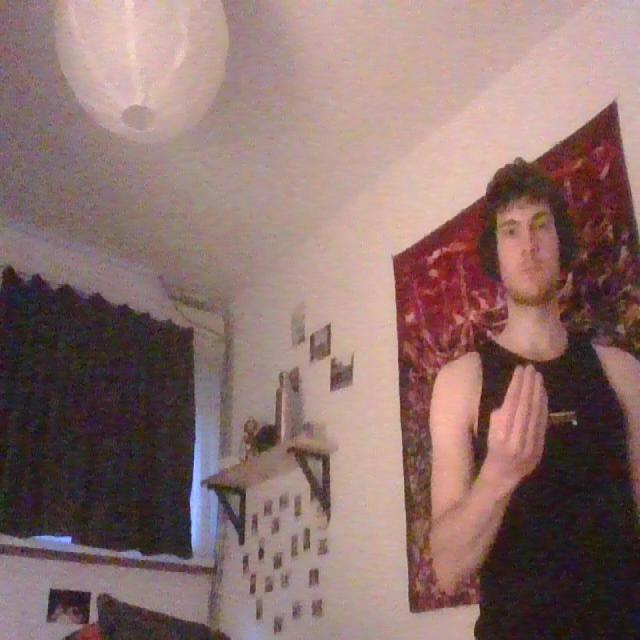forward: (478, 358, 556, 494)
